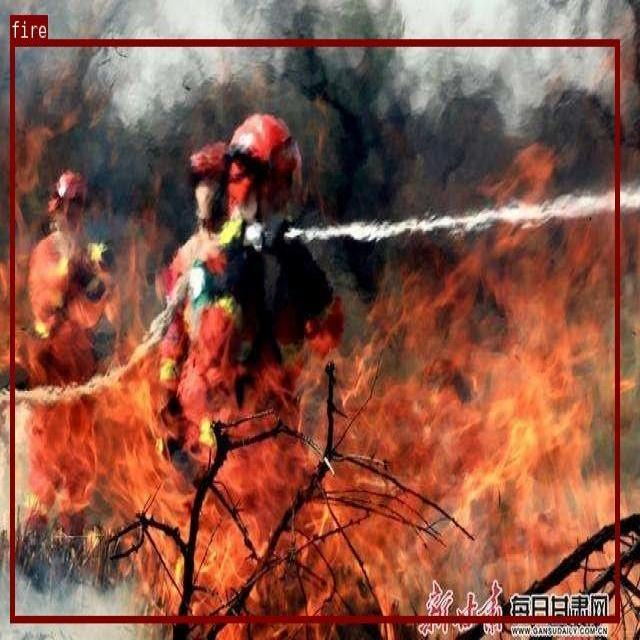fire: (10, 38, 619, 622)
